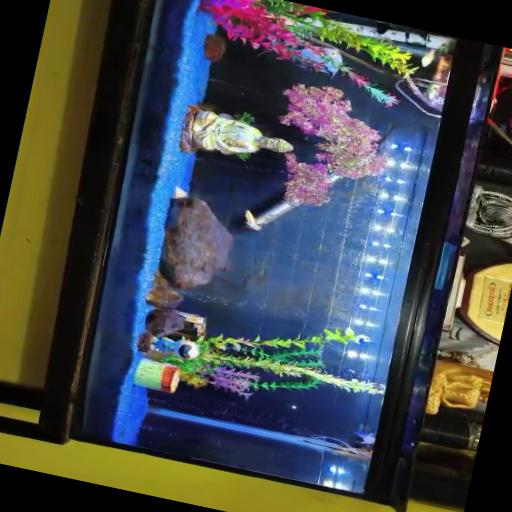Fish: (298, 46, 341, 76), (419, 40, 453, 66), (352, 430, 375, 444), (419, 47, 435, 66), (375, 20, 389, 34)
